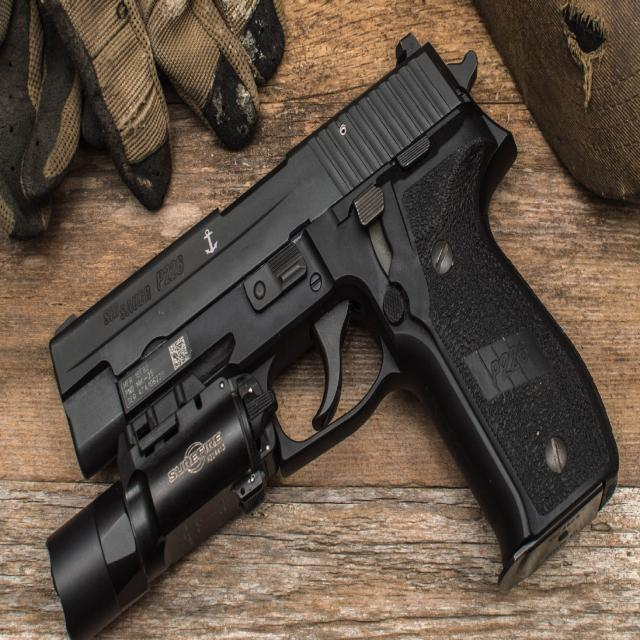Pistol: (39, 16, 640, 640)
